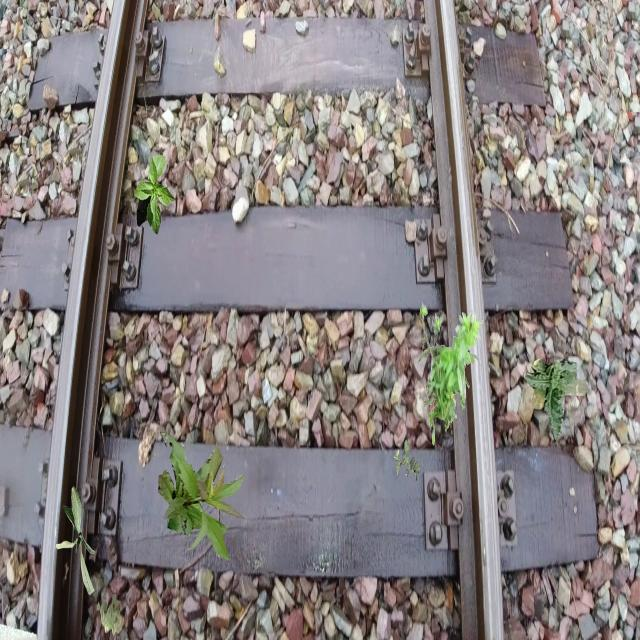Plant: (158, 432, 247, 562), (419, 302, 484, 446), (525, 359, 588, 442), (56, 486, 96, 596), (135, 155, 177, 235), (97, 593, 123, 636), (393, 440, 420, 481)
